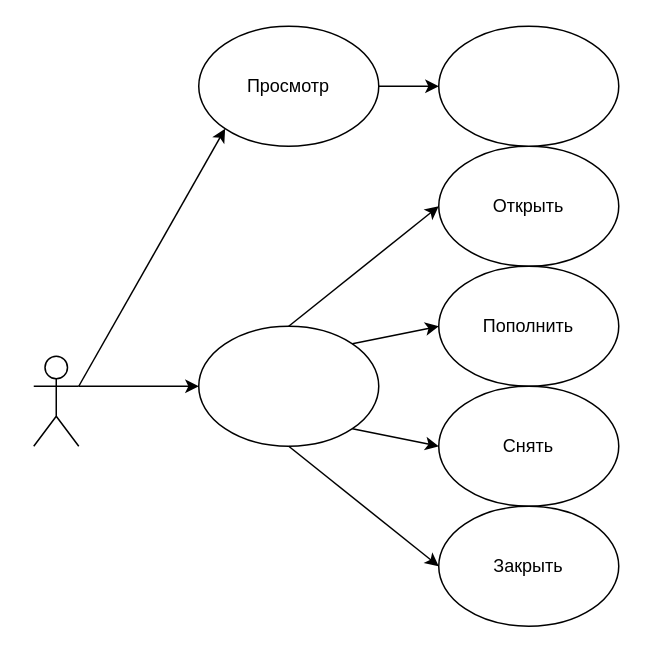
This 645x653 diagram has some shape labels left out. The shapes that lost their labels are listed below. From the top down, each one's centre as x and y in pixels, then its label:
At point (528, 85): "Узнать баланс счета".
At point (55, 400): "Клиент".
At point (288, 385): "Работа со счетом".
